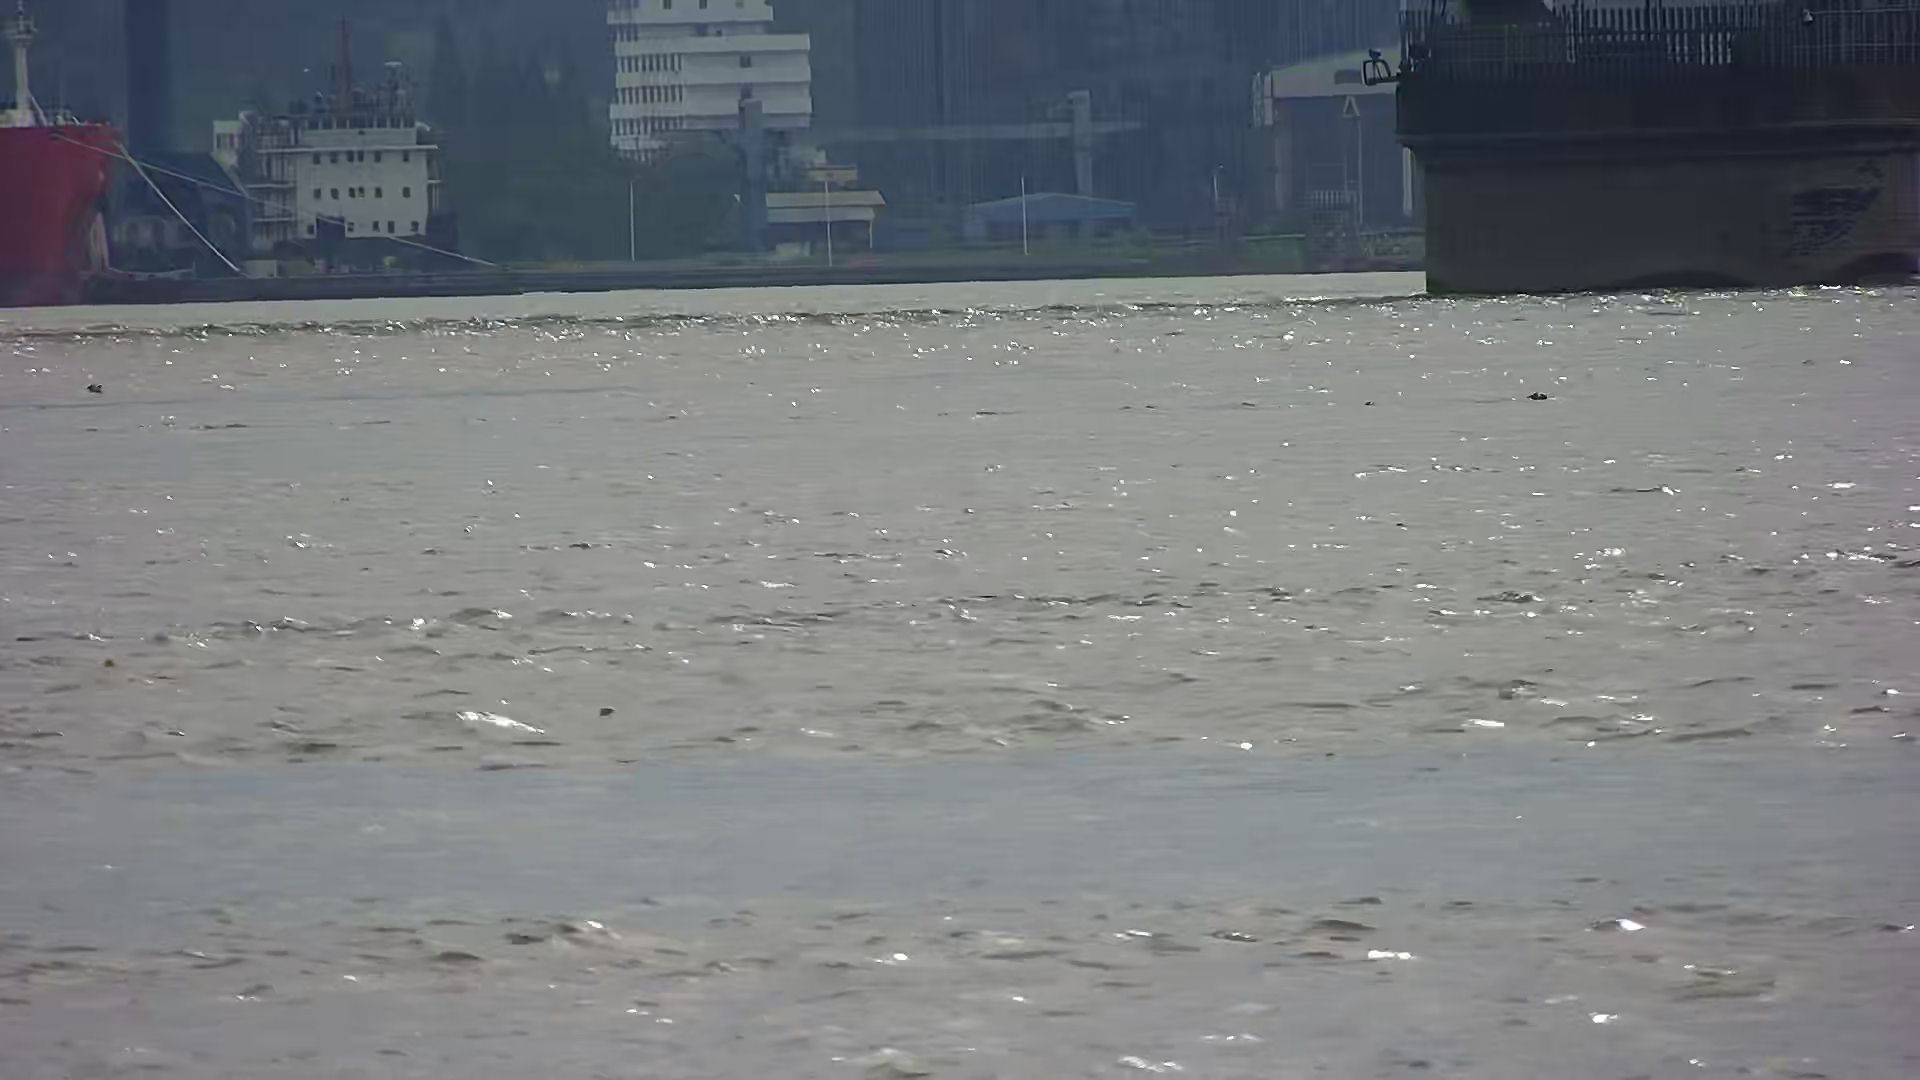mast: (1400, 3, 1920, 298)
